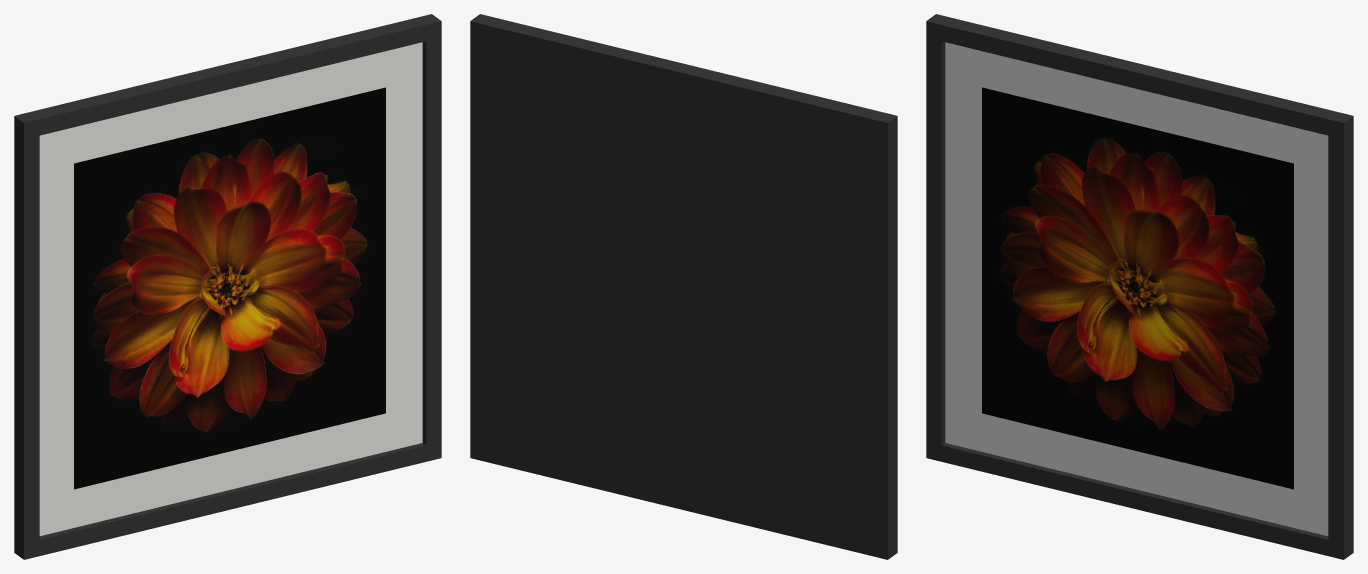
File: dahlian-40.gltf
The picture shows the model from 3 angles, left to right: view 1: azimuth 30°, elevation 25°; view 2: azimuth 150°, elevation 25°; view 3: azimuth 330°, elevation 25°; orthographic projection.
Parts seen in each view (by area): view 1: tavla; view 2: tavla; view 3: tavla.
Boxes of the visible parts, <box> form: tavla: <box>14,14,441,559</box>; tavla: <box>470,14,897,559</box>; tavla: <box>926,14,1353,559</box>.
Bounding box in the file's own units: 0.5359 × 0.5356 × 0.022.
Materials: 3 (1 with a texture image).
